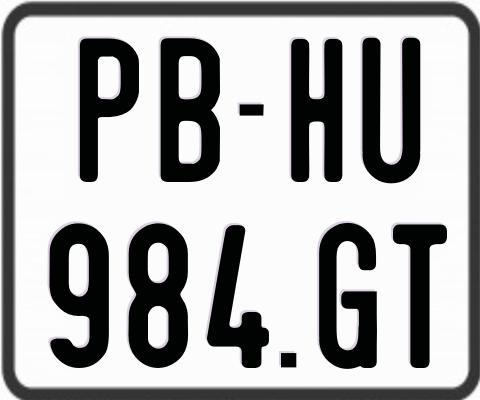4: (205, 223, 271, 366)
8: (126, 223, 186, 371)
9: (48, 222, 111, 372)
B: (160, 38, 219, 186)
G: (317, 221, 377, 370)
H: (288, 36, 342, 182)
P: (77, 38, 137, 182)
T: (390, 224, 447, 372)
U: (361, 36, 424, 187)
